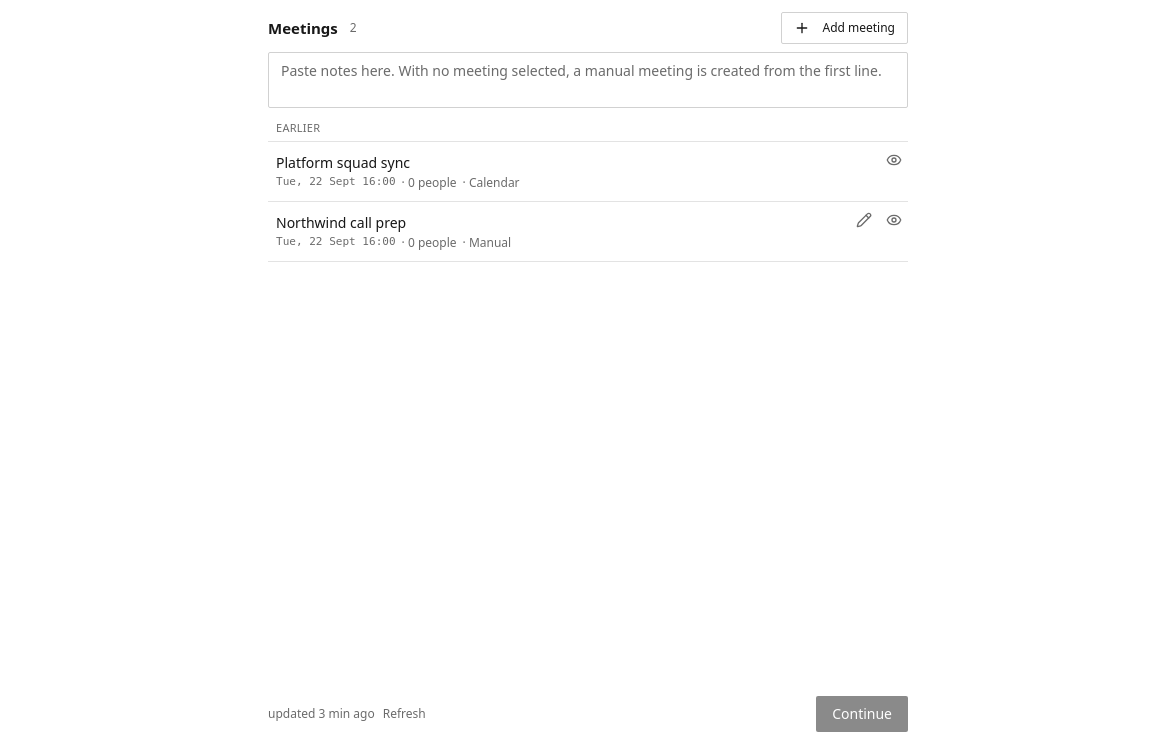
Test: MeetingStep › leaves one Continue beside the open detail
Step 1. Click the button named "Show meeting details" in the row of "Platform squad sync" → (894, 160), box [880,146,908,174]
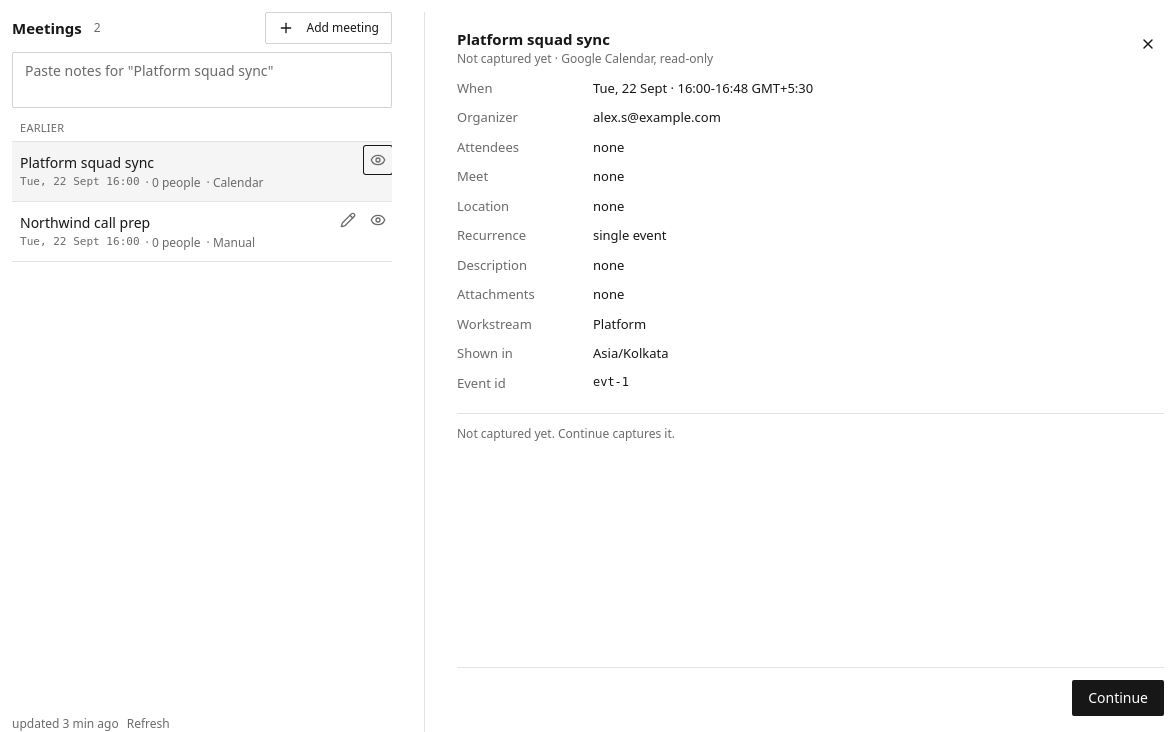
Check: the button "Continue" is shown, box [1072,680,1164,716]
Check: the number of buttons "Continue" is 2
